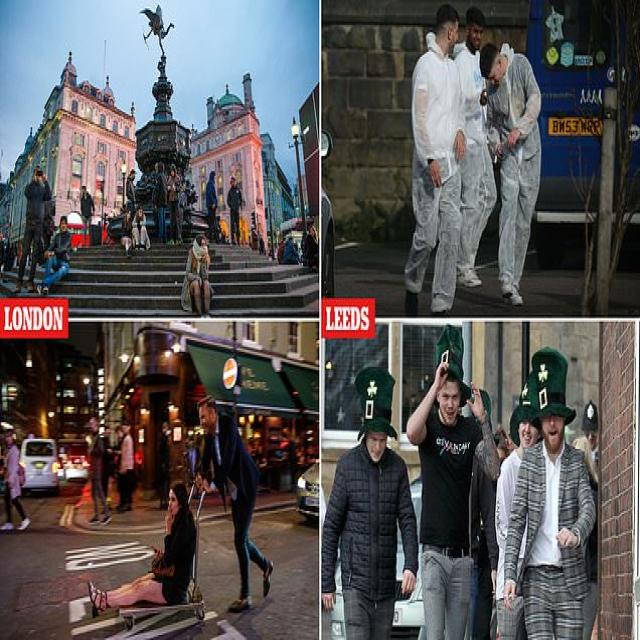Car: (522, 2, 637, 271), (18, 436, 59, 497), (58, 438, 94, 486), (296, 459, 321, 525)
Walking: (405, 328, 497, 638), (322, 366, 422, 638), (502, 351, 596, 640), (196, 393, 275, 612), (482, 40, 543, 307), (452, 5, 498, 289), (467, 418, 501, 640), (2, 431, 30, 533), (87, 418, 112, 523)
human: (404, 4, 468, 321), (516, 346, 575, 430), (352, 385, 404, 477), (354, 366, 398, 442), (435, 324, 473, 402), (511, 394, 540, 446), (470, 388, 492, 428), (581, 401, 599, 433), (466, 7, 486, 30)
loitering: (88, 481, 197, 614), (491, 402, 535, 640), (568, 401, 599, 638), (16, 165, 52, 292), (20, 160, 57, 274), (184, 222, 218, 312), (39, 211, 77, 289), (117, 424, 135, 512), (226, 173, 247, 241), (3, 231, 36, 274), (152, 164, 168, 245), (109, 428, 124, 512), (41, 179, 56, 263), (168, 168, 184, 245), (158, 422, 172, 508), (226, 177, 242, 248), (206, 171, 218, 244), (80, 185, 94, 246), (284, 432, 298, 492), (256, 446, 273, 492), (303, 220, 318, 272), (134, 215, 152, 248), (495, 428, 511, 465), (126, 170, 137, 222), (282, 236, 301, 265), (122, 205, 133, 252), (4, 238, 15, 272), (167, 179, 179, 205), (0, 237, 7, 270), (277, 239, 286, 264), (215, 216, 222, 243), (179, 187, 187, 210), (250, 229, 258, 251), (17, 241, 23, 269), (259, 236, 265, 255)
